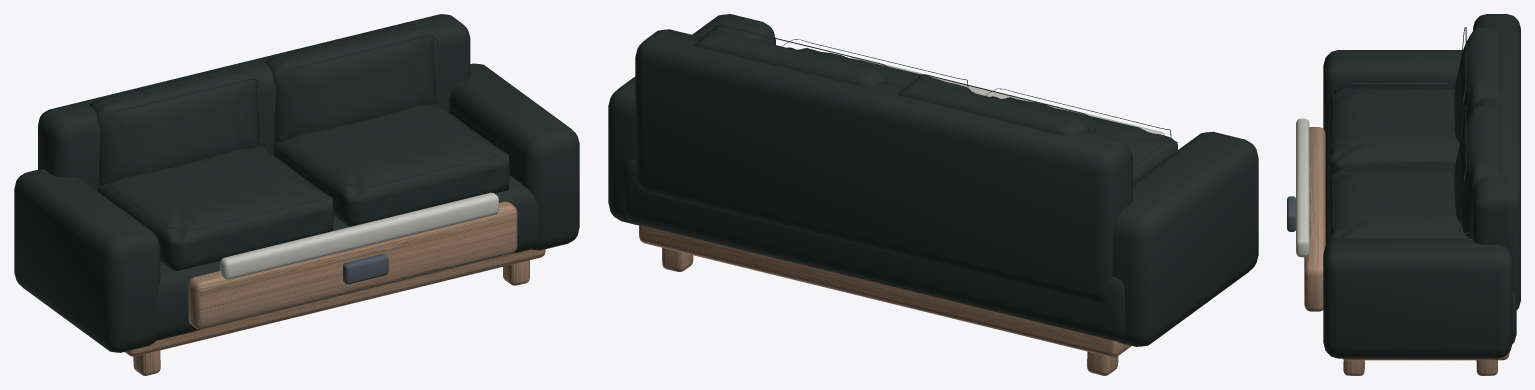
File: sleeper-sofa.glb
3 views of the same model, side by side, from view 1: azimuth 30°, elevation 25°; view 2: azimuth 150°, elevation 25°; view 3: azimuth 270°, elevation 25° (orthographic). The views are drawn at different scales.
Visible parts, largest first — view 1: catalog_surface_UVMap, catalog_surface_RealismUV; view 2: catalog_surface_UVMap, catalog_surface_RealismUV; view 3: catalog_surface_UVMap, catalog_surface_RealismUV.
Boxes of the visible parts, x1,y1,x2,y2 form: catalog_surface_UVMap: (14, 14, 579, 375); catalog_surface_RealismUV: (103, 34, 503, 284); catalog_surface_UVMap: (608, 14, 1258, 375); catalog_surface_RealismUV: (713, 25, 1171, 166); catalog_surface_UVMap: (1296, 14, 1520, 375); catalog_surface_RealismUV: (1287, 27, 1469, 237).
Bounding box in the file's own units: 1.98 × 0.84 × 0.92.
6 materials, 3 textured.
